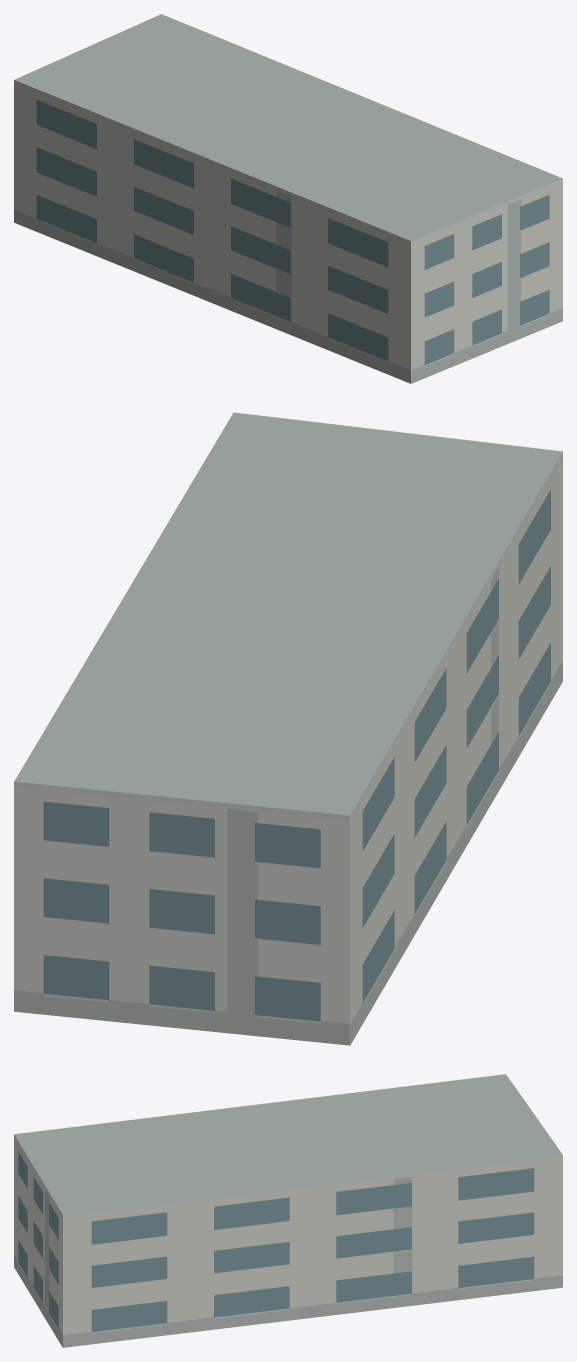
File: residential-fdc0e71b-9d65-4b3f-b389-d81736287ab9.glb
3 views of the same model, one above another, from view 1: azimuth 30°, elevation 25°; view 2: azimuth 150°, elevation 25°; view 3: azimuth 270°, elevation 25° (orthographic). The views are drawn at different scales.
Visible parts, largest first — view 1: residential-fdc0e71b-9d65-4b3f-b389-d81736287ab9.tmp; view 2: residential-fdc0e71b-9d65-4b3f-b389-d81736287ab9.tmp; view 3: residential-fdc0e71b-9d65-4b3f-b389-d81736287ab9.tmp.
Part boxes in pixels (x1=…): residential-fdc0e71b-9d65-4b3f-b389-d81736287ab9.tmp: x1=14, y1=14, x2=562, y2=383; residential-fdc0e71b-9d65-4b3f-b389-d81736287ab9.tmp: x1=14, y1=412, x2=562, y2=1045; residential-fdc0e71b-9d65-4b3f-b389-d81736287ab9.tmp: x1=14, y1=1074, x2=562, y2=1347.
Size of the model in its own units: 20.84 by 9.15 by 34.29.
